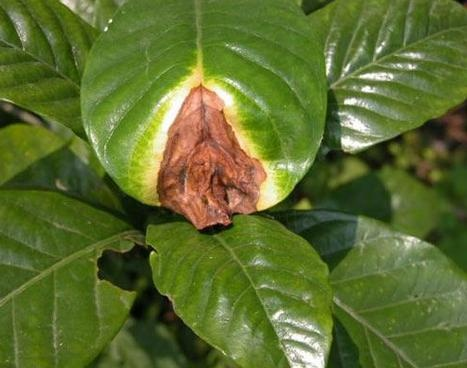Anthracnose: (153, 77, 278, 216)
